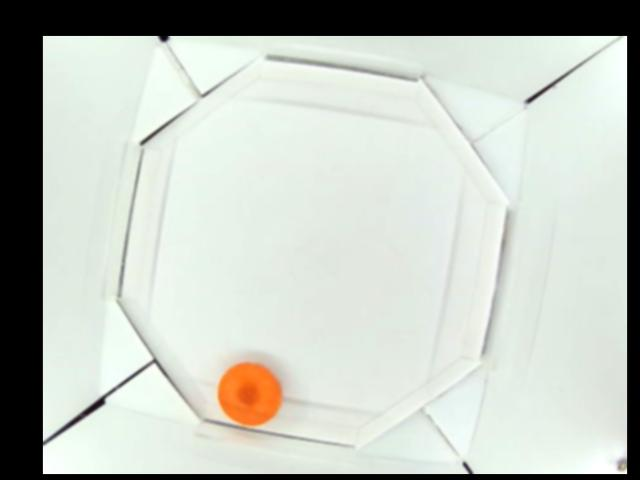Carrot: (216, 359, 282, 428)
